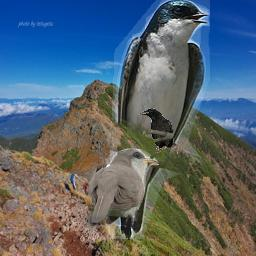Crow: (139, 108, 174, 153)
Cuckoo: (86, 148, 159, 228)
Swallow: (106, 0, 210, 239)
